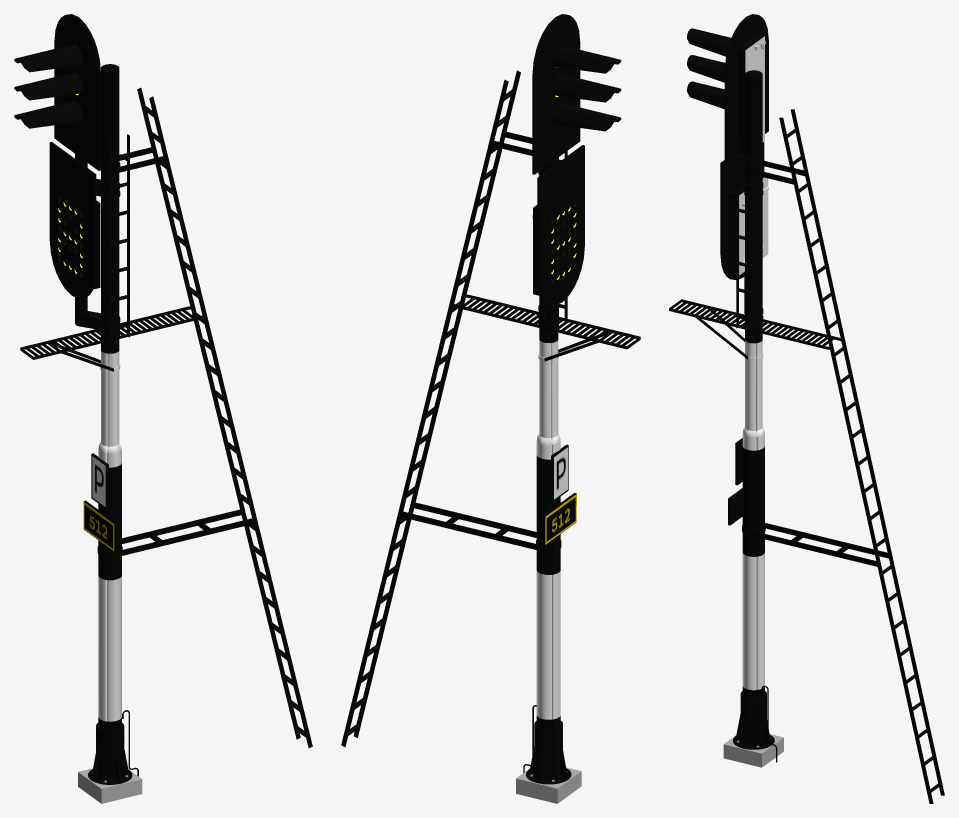
File: sein_nr210_nr291c.glb
3 renders of one model, left to right at view 1: azimuth 30°, elevation 25°; view 2: azimuth 150°, elevation 25°; view 3: azimuth 330°, elevation 25°, orthographic. The views are drawn at different scales.
Visible parts, largest first — view 1: 8; view 2: 8; view 3: 8.
Part boxes in pixels (left/top/right/bottom): 8: left=14, top=14, right=312, bottom=803; 8: left=341, top=14, right=640, bottom=803; 8: left=669, top=14, right=944, bottom=803.
Size of the model in its own units: 5.2 by 13.65 by 1.63.
12 materials, 1 textured.
